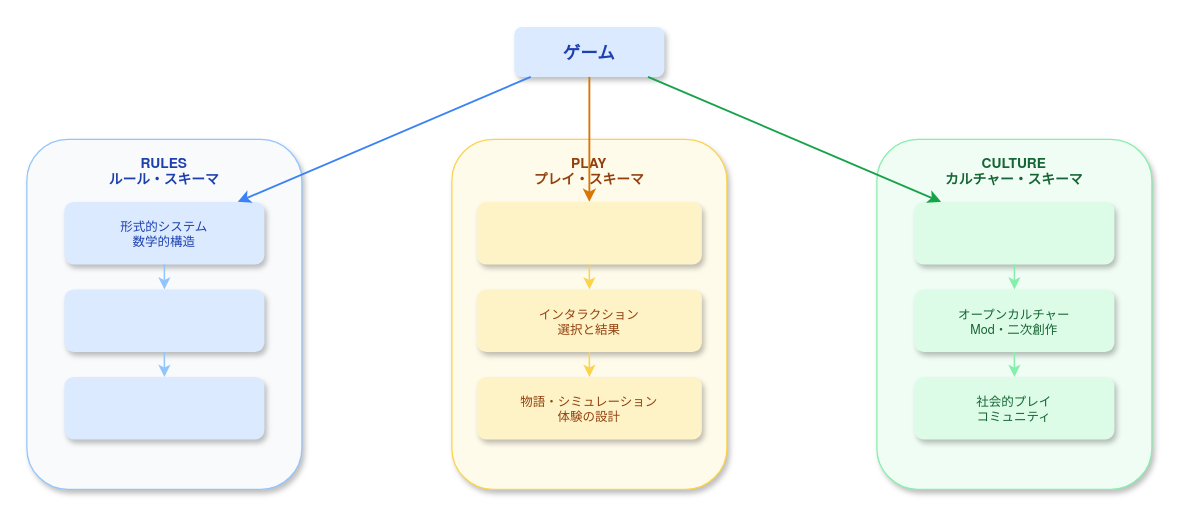
Some shapes in this 1181 by 520 pixel diagram are drawn without their labels. Here are the shapes that lost their labels. From the top down, the centre of each, then its label:
At [590,234]: "意味のあるプレイ Discernable + Integrated".
At [1015,234]: "レトリック 文化的メッセージ".
At [165,322]: "確率・情報理論 ゲーム木・戦略".
At [165,409]: "サイバネティクス フィードバック".
